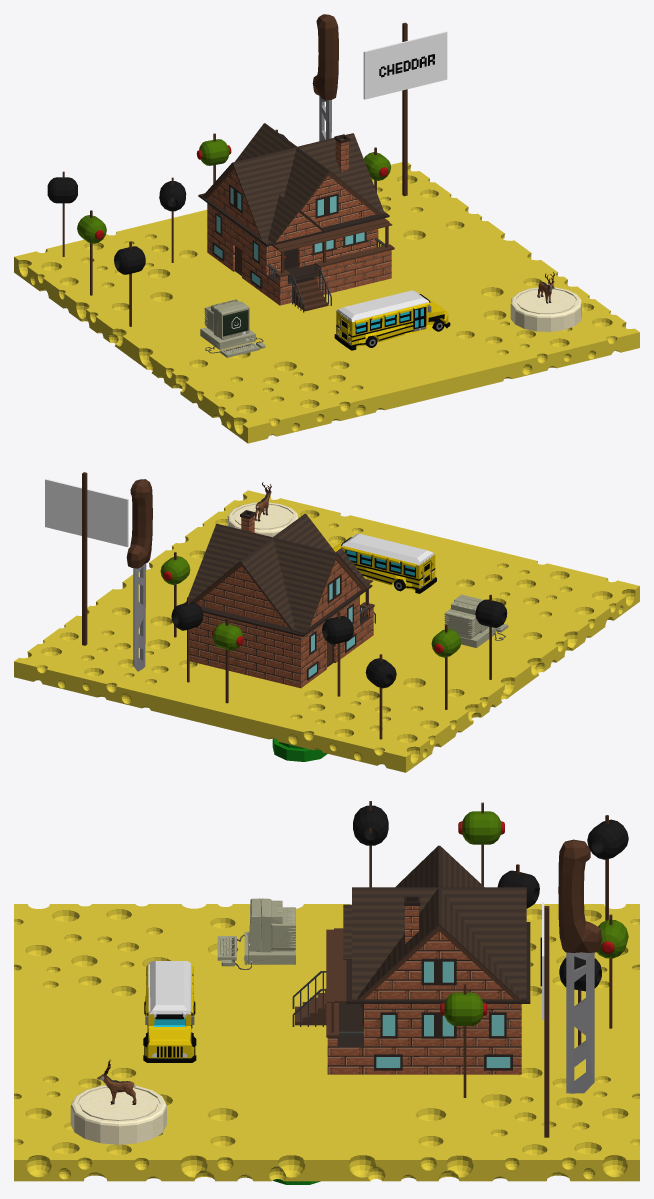
3 views of the same model, one above another, from view 1: azimuth 30°, elevation 25°; view 2: azimuth 150°, elevation 25°; view 3: azimuth 270°, elevation 25° (orthographic). The views are drawn at different scales.
Visible parts, largest first — view 1: Cube.022, Cube.469, Cube.023, VEHICLES_SCHOOL_BUS, Cylinder.016, OBJRANDOM_RETRO_PC, Cube.024, Sphere.017, Sphere.016, Sphere.020, Sphere.018, Sphere.022 (+1 smaller); view 2: Cube.022, Cube.469, Cube.023, VEHICLES_SCHOOL_BUS, Cube.024, OBJRANDOM_RETRO_PC, Cylinder.016, Sphere.020, Sphere.016, Sphere.022, Sphere.017, Sphere.021 (+3 smaller); view 3: Cube.022, Cube.469, Cube.024, VEHICLES_SCHOOL_BUS, Cylinder.016, OBJRANDOM_RETRO_PC, Cube.023, Sphere.019, Sphere.016, Sphere.018, Sphere.017, Sphere.022 (+3 smaller).
Boxes of the visible parts, x1=… form: Cube.022: x1=14, y1=162, x2=639, y2=443; Cube.469: x1=198, y1=123, x2=394, y2=312; Cube.023: x1=363, y1=22, x2=447, y2=196; VEHICLES_SCHOOL_BUS: x1=334, y1=290, x2=450, y2=350; Cylinder.016: x1=510, y1=287, x2=581, y2=331; OBJRANDOM_RETRO_PC: x1=200, y1=299, x2=265, y2=357; Cube.024: x1=312, y1=14, x2=338, y2=141; Sphere.017: x1=114, y1=241, x2=145, y2=326; Sphere.016: x1=47, y1=171, x2=77, y2=256; Sphere.020: x1=159, y1=177, x2=186, y2=262; Sphere.018: x1=77, y1=210, x2=106, y2=295; Sphere.022: x1=196, y1=133, x2=231, y2=183; Cube.022: x1=14, y1=490, x2=639, y2=772; Cube.469: x1=185, y1=510, x2=375, y2=688; Cube.023: x1=45, y1=472, x2=128, y2=645; VEHICLES_SCHOOL_BUS: x1=333, y1=533, x2=436, y2=593; Cube.024: x1=126, y1=479, x2=152, y2=671; OBJRANDOM_RETRO_PC: x1=444, y1=594, x2=508, y2=647; Cylinder.016: x1=227, y1=502, x2=298, y2=537; Sphere.020: x1=322, y1=611, x2=353, y2=696; Sphere.016: x1=365, y1=654, x2=396, y2=739; Sphere.022: x1=212, y1=618, x2=243, y2=703; Sphere.017: x1=475, y1=594, x2=507, y2=679; Sphere.021: x1=171, y1=597, x2=203, y2=682; Cube.022: x1=14, y1=904, x2=639, y2=1181; Cube.469: x1=292, y1=845, x2=530, y2=1074; Cube.024: x1=558, y1=839, x2=602, y2=1093; VEHICLES_SCHOOL_BUS: x1=143, y1=961, x2=196, y2=1062; Cylinder.016: x1=70, y1=1085, x2=166, y2=1144; OBJRANDOM_RETRO_PC: x1=217, y1=898, x2=295, y2=969; Cube.023: x1=540, y1=902, x2=549, y2=1137; Sphere.019: x1=440, y1=984, x2=487, y2=1097; Sphere.016: x1=587, y1=815, x2=628, y2=920; Sphere.018: x1=458, y1=802, x2=504, y2=885; Sphere.017: x1=353, y1=801, x2=388, y2=887; Sphere.022: x1=597, y1=914, x2=628, y2=1028.
Bounding box in the file's own units: 3917 × 2590 × 4000.
37 materials, 4 textured.
